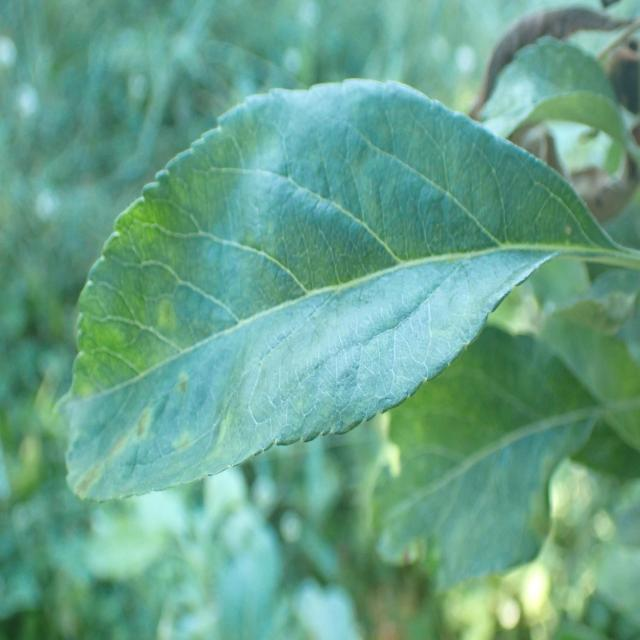scab: (73, 180, 492, 501)
